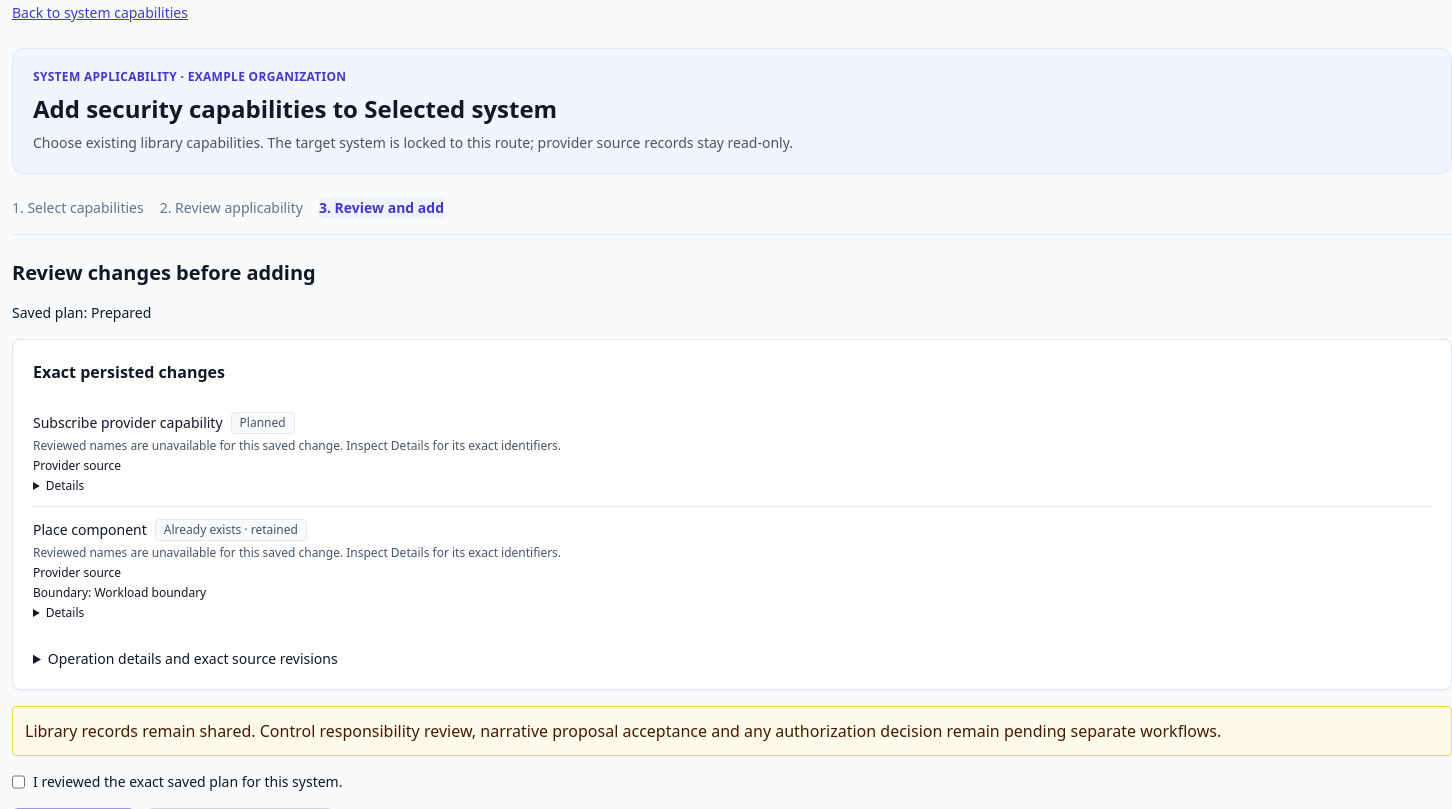
Test: Three-step selected-system capability setup › does not retry an uncertain write before reloading durable outcomes
This screenshot has width=1452, height=809.
Expected: the heading "Review changes before adding" is shown, [12,259,316,286]
What coordinates should you click on to do the following:
click the checkbox labelled "I reviewed the exact saved plan for this system."
I would click on:
 (18, 782)
Its box is [12,772,25,792].
(page scrolled)
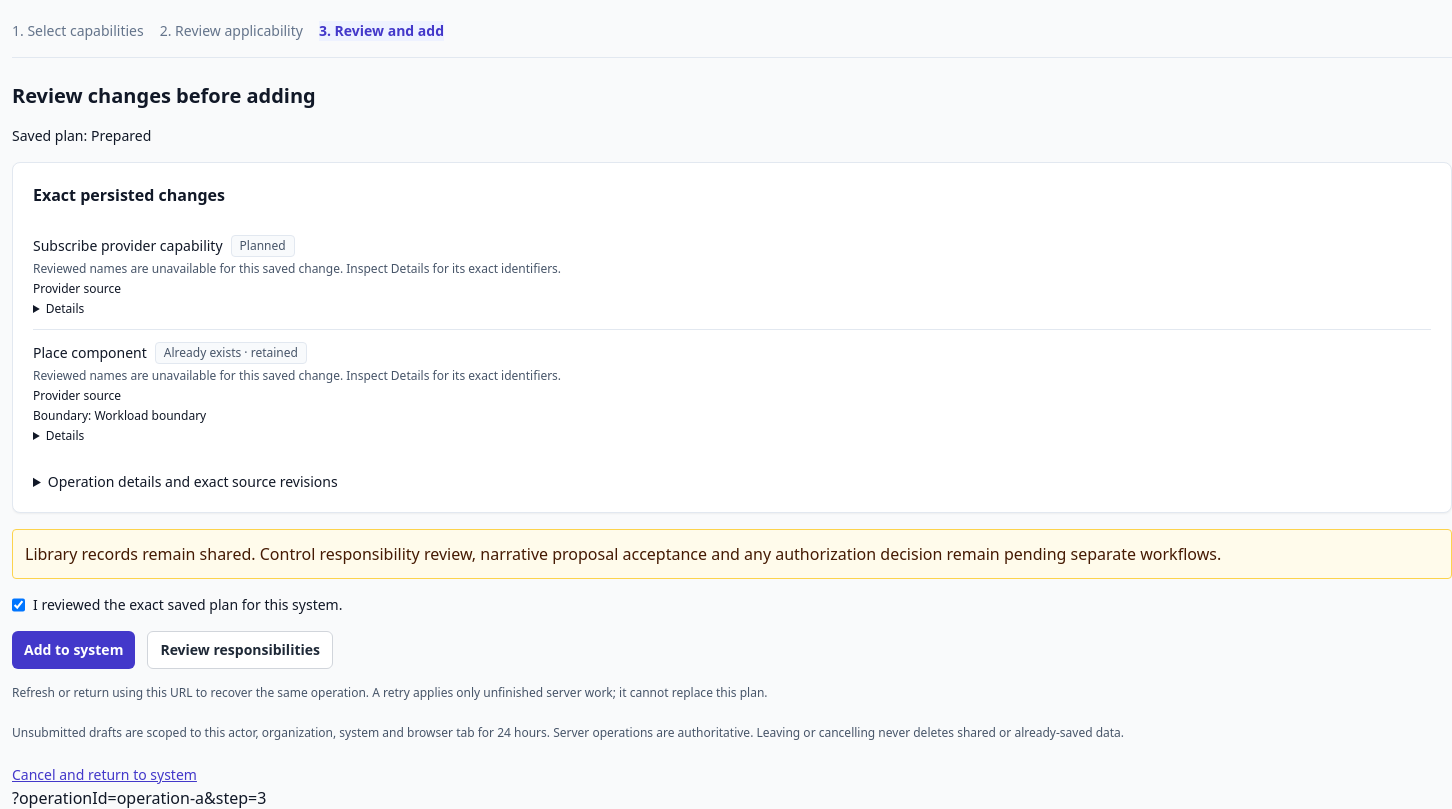
Expected: the button "Add to system" is enabled
What coordinates should you click on to do the following:
click the button "Add to system"
I would click on:
 (74, 650)
Its box is [12,631,135,669].
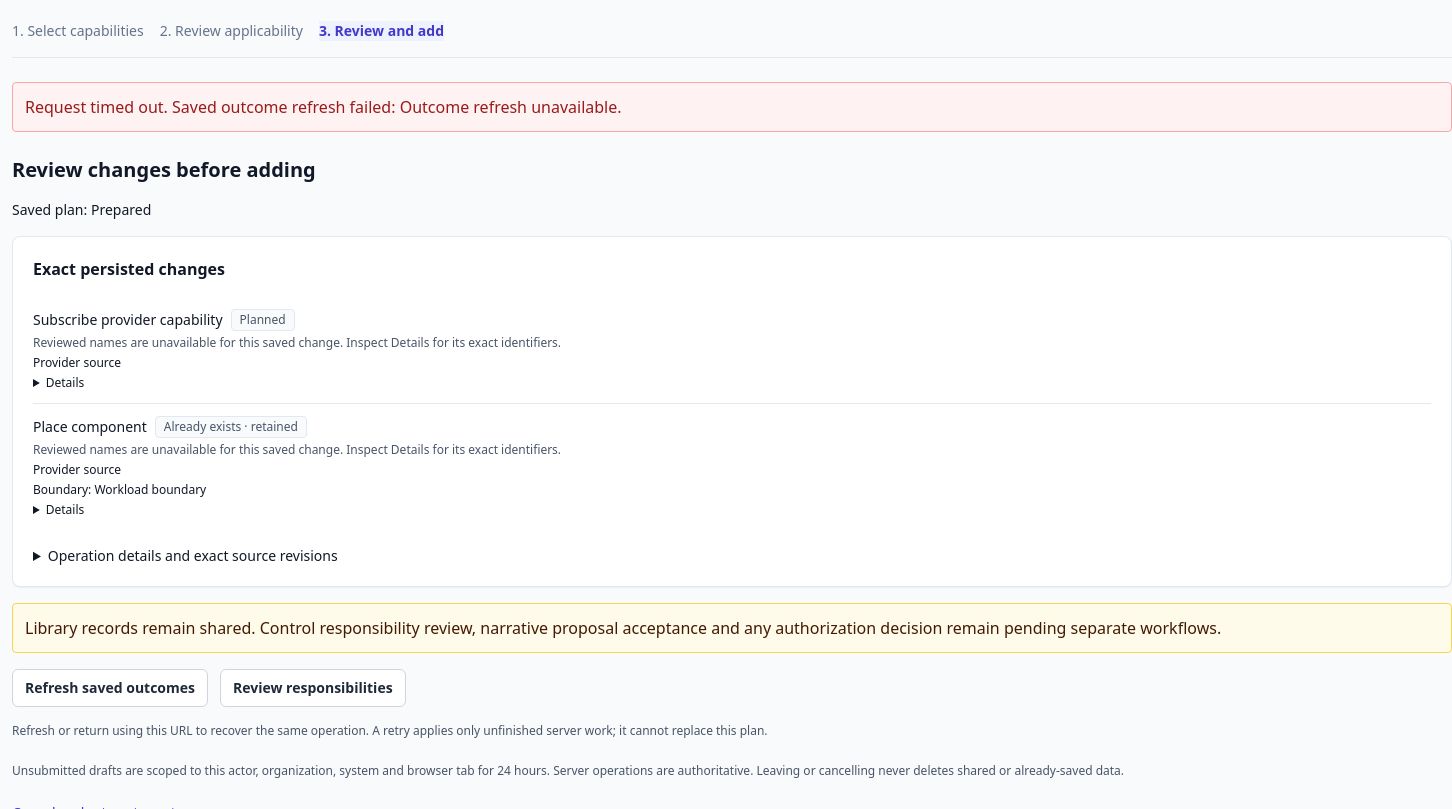
Expected: the message shows "Outcome refresh unavailable", [25,96,622,118]
Expected: the button "Refresh saved outcomes" is shown, [12,669,208,707]
